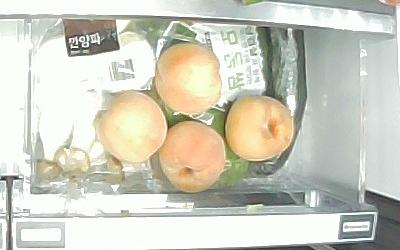peach: (96, 91, 167, 163), (159, 120, 226, 193), (225, 94, 296, 161), (158, 43, 222, 115)
